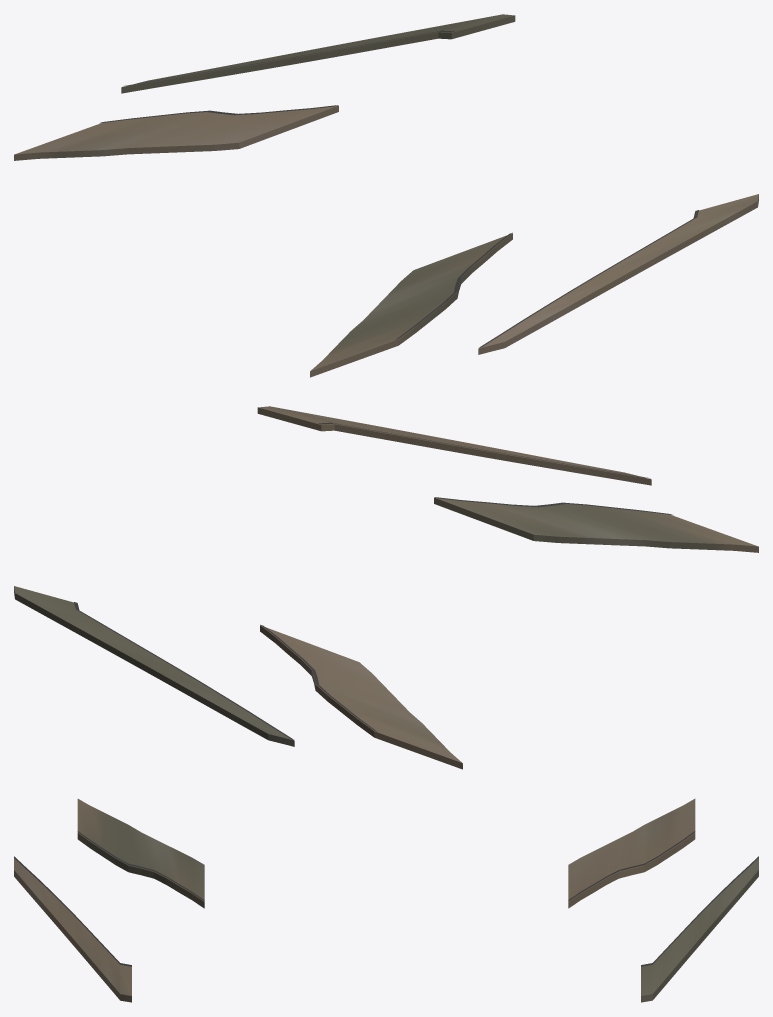
File: fh_mech_fighter_1.glb
The picture shows the model from 3 angles, top to bottom: view 1: azimuth 30°, elevation 25°; view 2: azimuth 150°, elevation 25°; view 3: azimuth 270°, elevation 25°; orthographic projection. The views are drawn at different scales.
Visible parts, largest first — view 1: flap_l, flap_r, slat_r, slat_l; view 2: flap_r, flap_l, slat_l, slat_r; view 3: flap_l, flap_r, slat_l, slat_r.
Part boxes in pixels (box(x1,y1,x2,y2)): flap_l: box(14, 105, 338, 160); flap_r: box(310, 232, 512, 377); slat_r: box(478, 194, 758, 354); slat_l: box(121, 14, 515, 93); flap_r: box(434, 497, 758, 552); flap_l: box(260, 624, 462, 769); slat_l: box(14, 586, 294, 746); slat_r: box(257, 406, 651, 485); flap_l: box(568, 798, 695, 908); flap_r: box(77, 799, 204, 908); slat_l: box(641, 856, 758, 1002); slat_r: box(14, 856, 131, 1002).
Size of the model in its own units: 0.315 by 0.0309 by 0.41.
